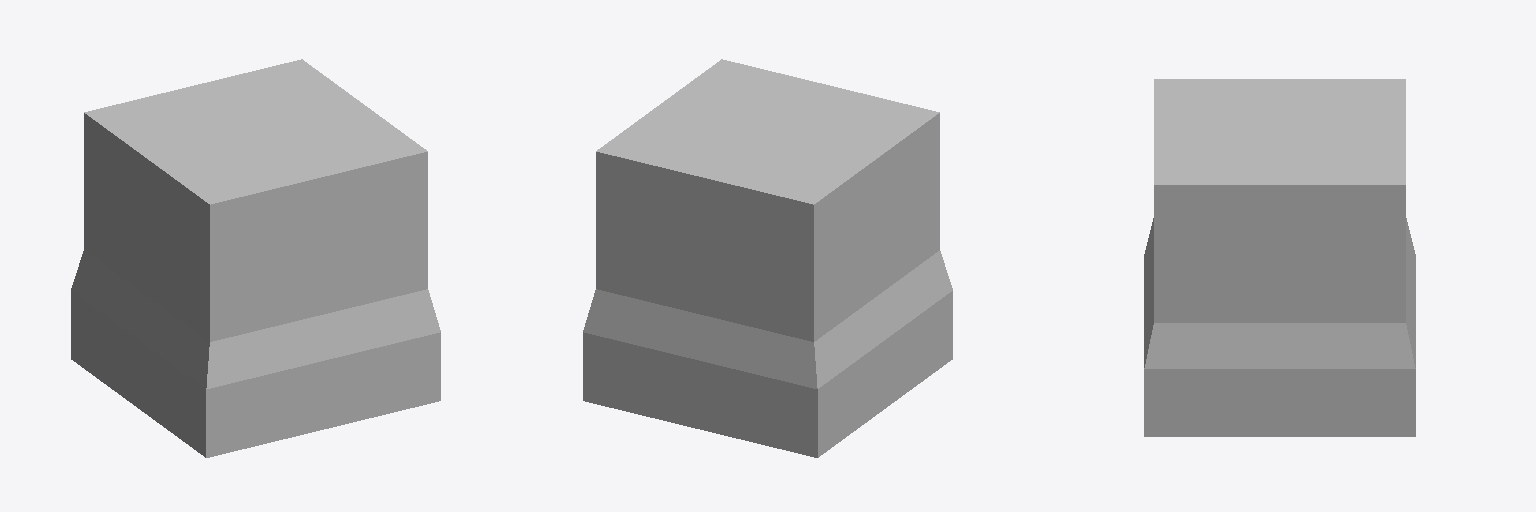
The model's file is towerSquareBase.obj.
The picture shows the model from 3 angles: view 1: azimuth 30°, elevation 25°; view 2: azimuth 150°, elevation 25°; view 3: azimuth 270°, elevation 25°; orthographic projection.
Visible parts, largest first — view 1: towerSquareBase; view 2: towerSquareBase; view 3: towerSquareBase.
Part boxes in pixels (x1,y1,x2,y2): towerSquareBase: (71,59,440,457); towerSquareBase: (583,59,952,457); towerSquareBase: (1144,79,1415,436).
Size of the model in its own units: 10 by 10.1 by 10.